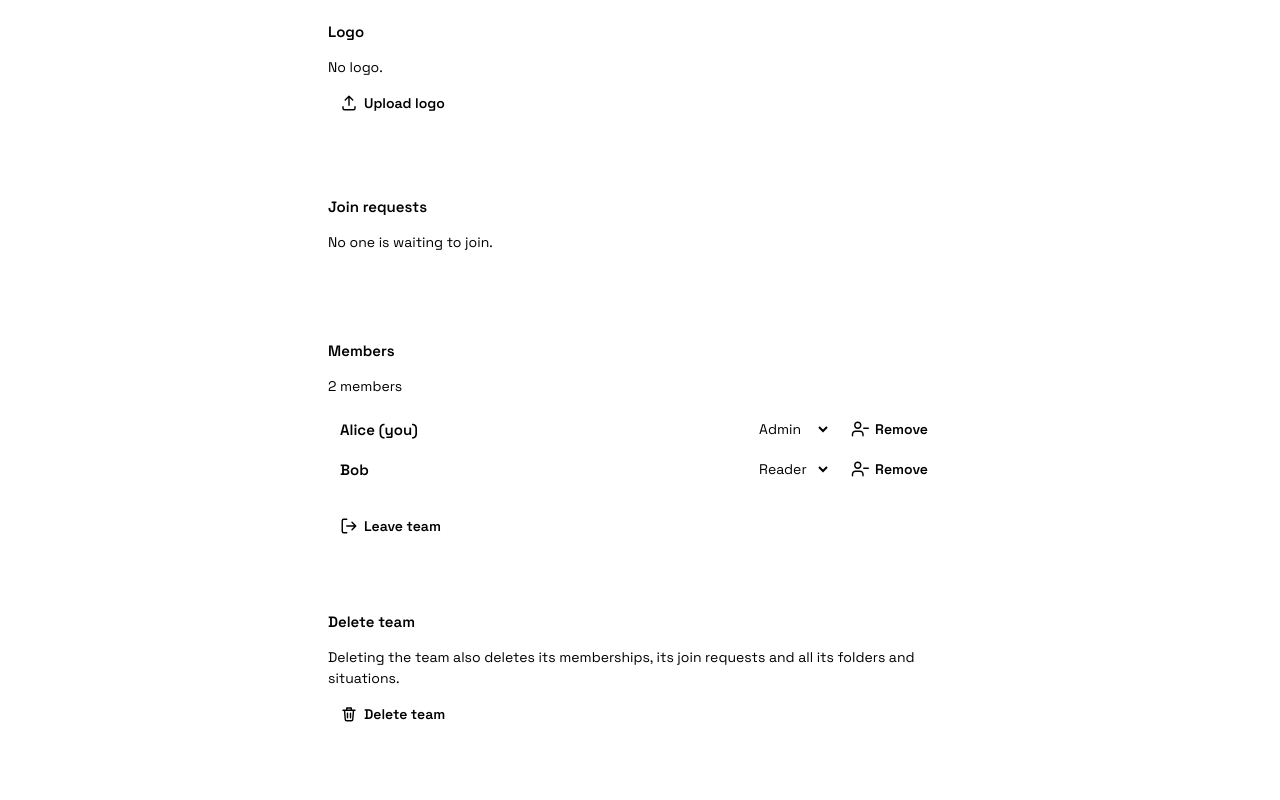
team page › asks before an Admin removes a member
(page scrolled)
Click the button with aria-label "Remove Bob". click: click(890, 469)
box: [839,460,940,478]
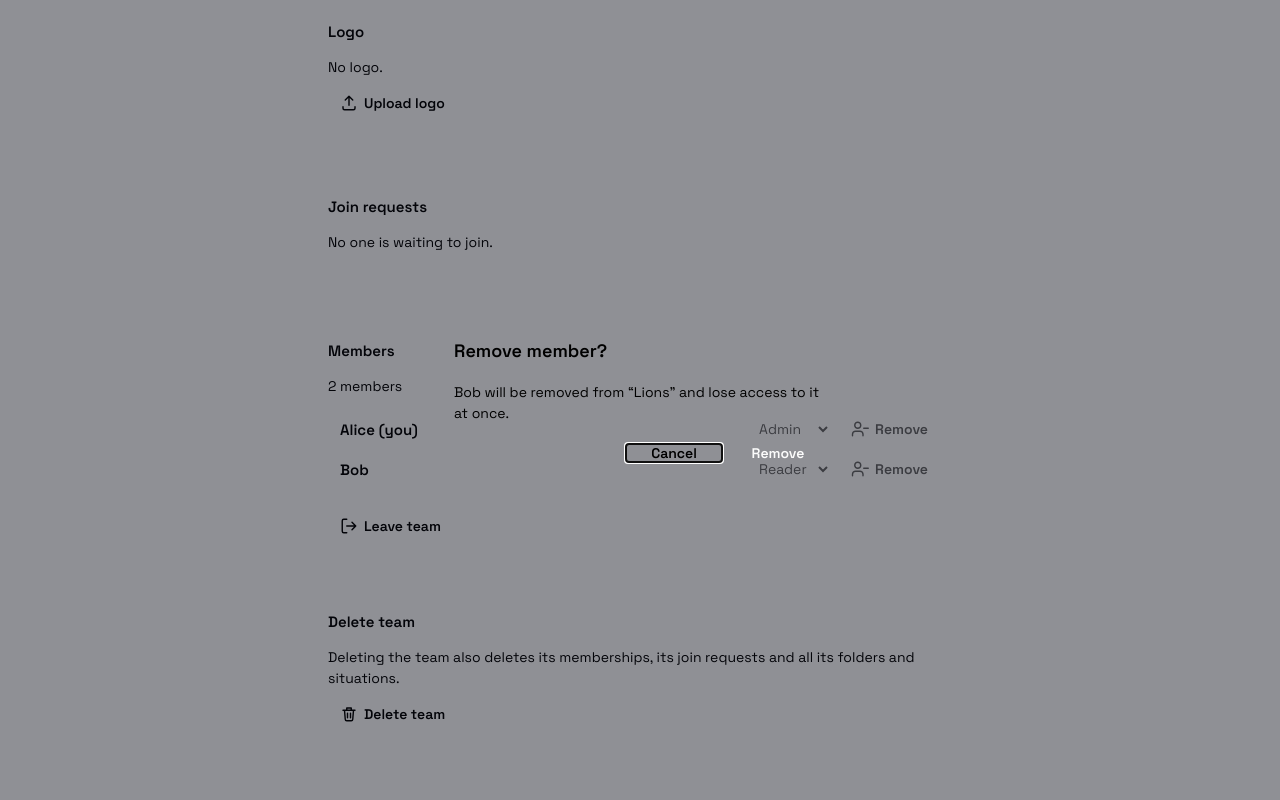
Expected: the dialog "Remove member?" shows "Bob will be removed from “Lions” and lose access to it at once.", [454,382,819,422]
Click the button "Cancel". click: click(674, 452)
box: [626,444,722,462]
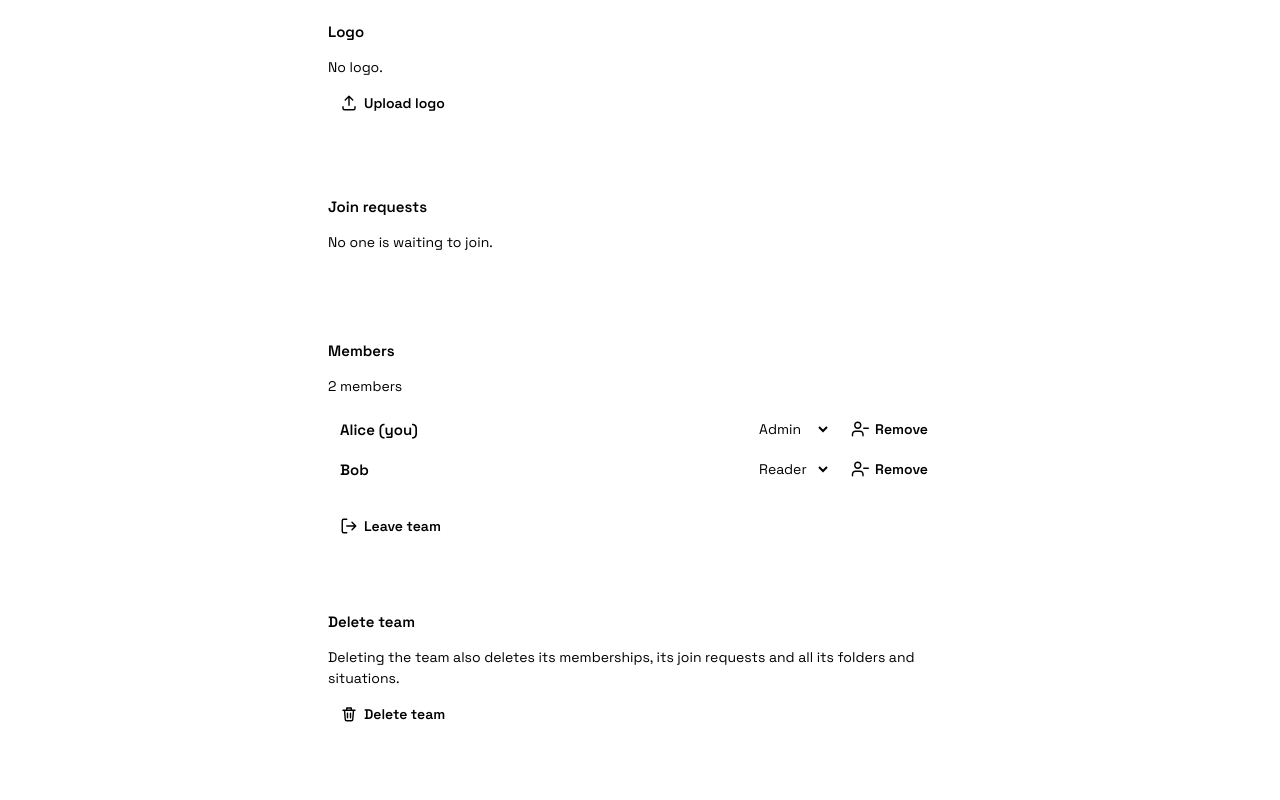
Click the button with aria-label "Remove Bob". click: click(890, 469)
box: [839,460,940,478]
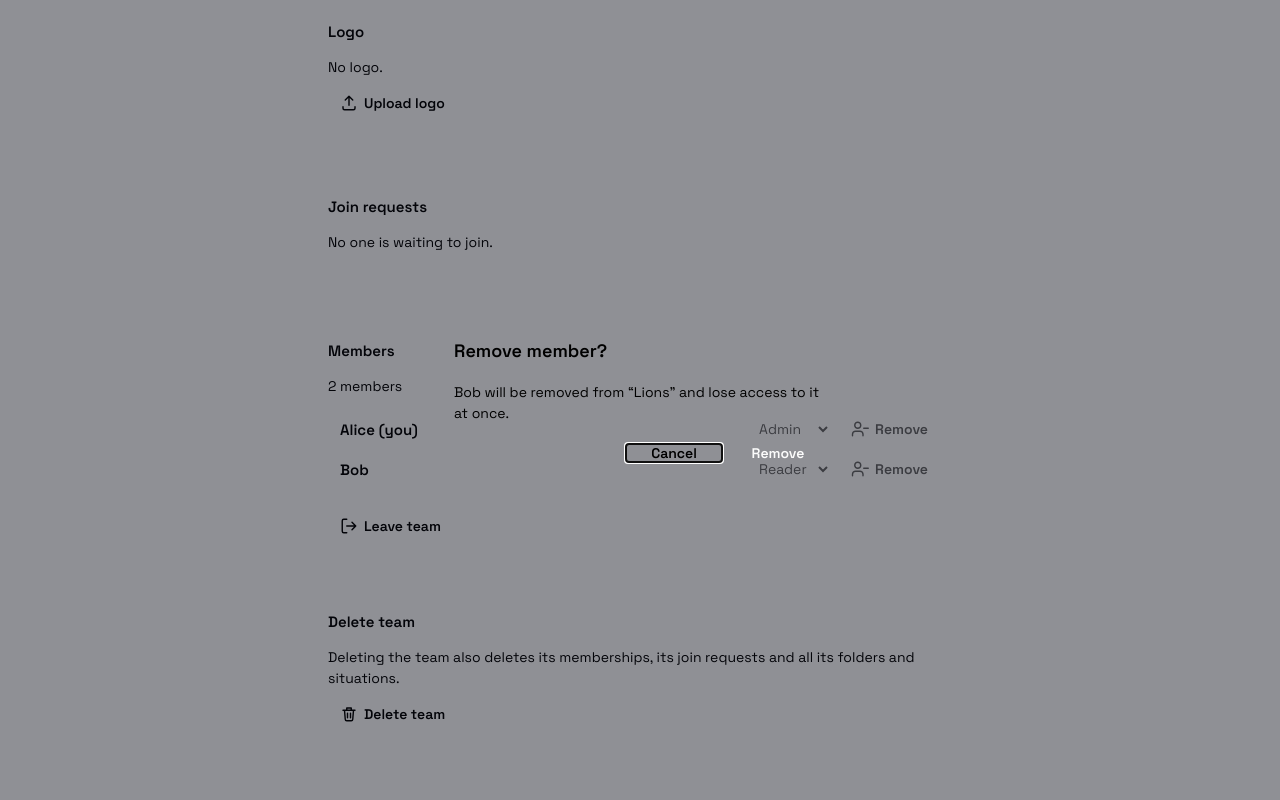
Click the button "Remove". click: click(778, 452)
box: [730,444,826,462]
(page scrolled)
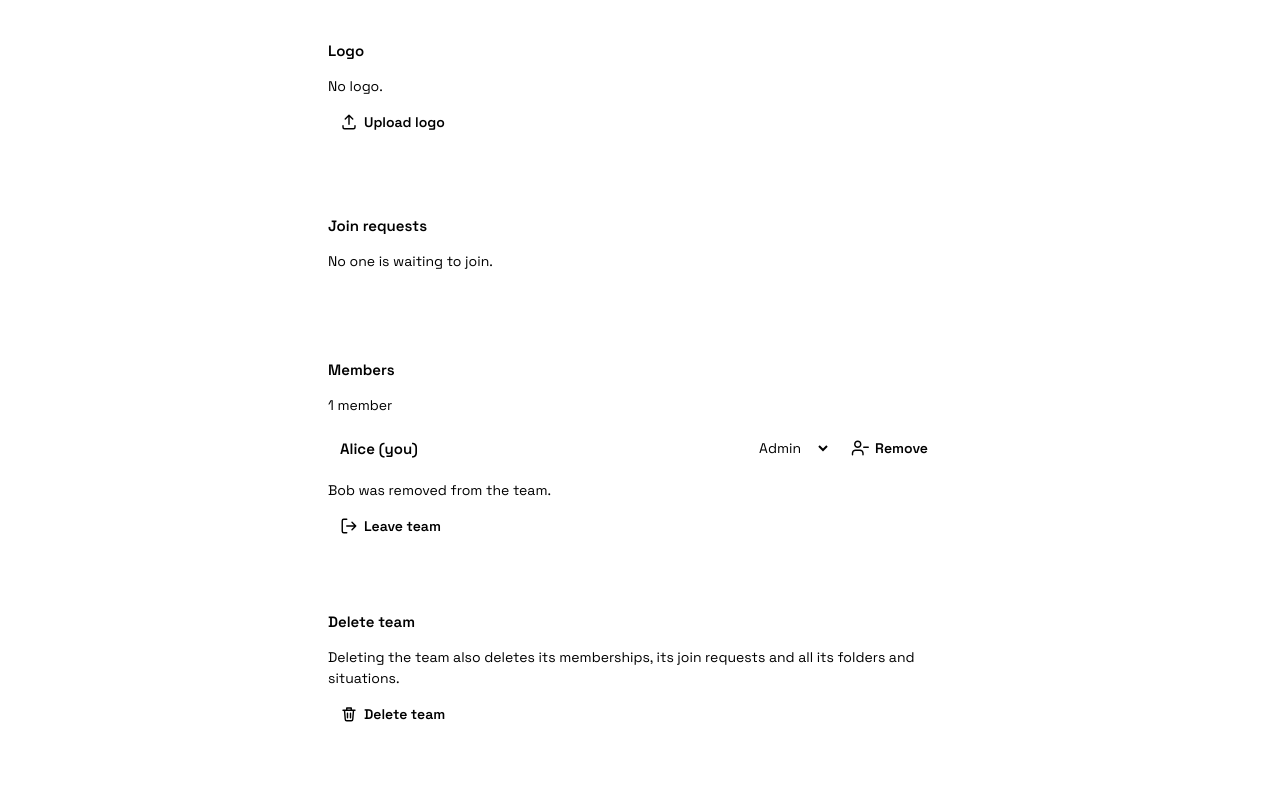
Expected: the element "Members" does not show "Bob (", [304,336,976,564]
Expected: the message reads "Bob was removed from the team.", [328,481,551,499]
